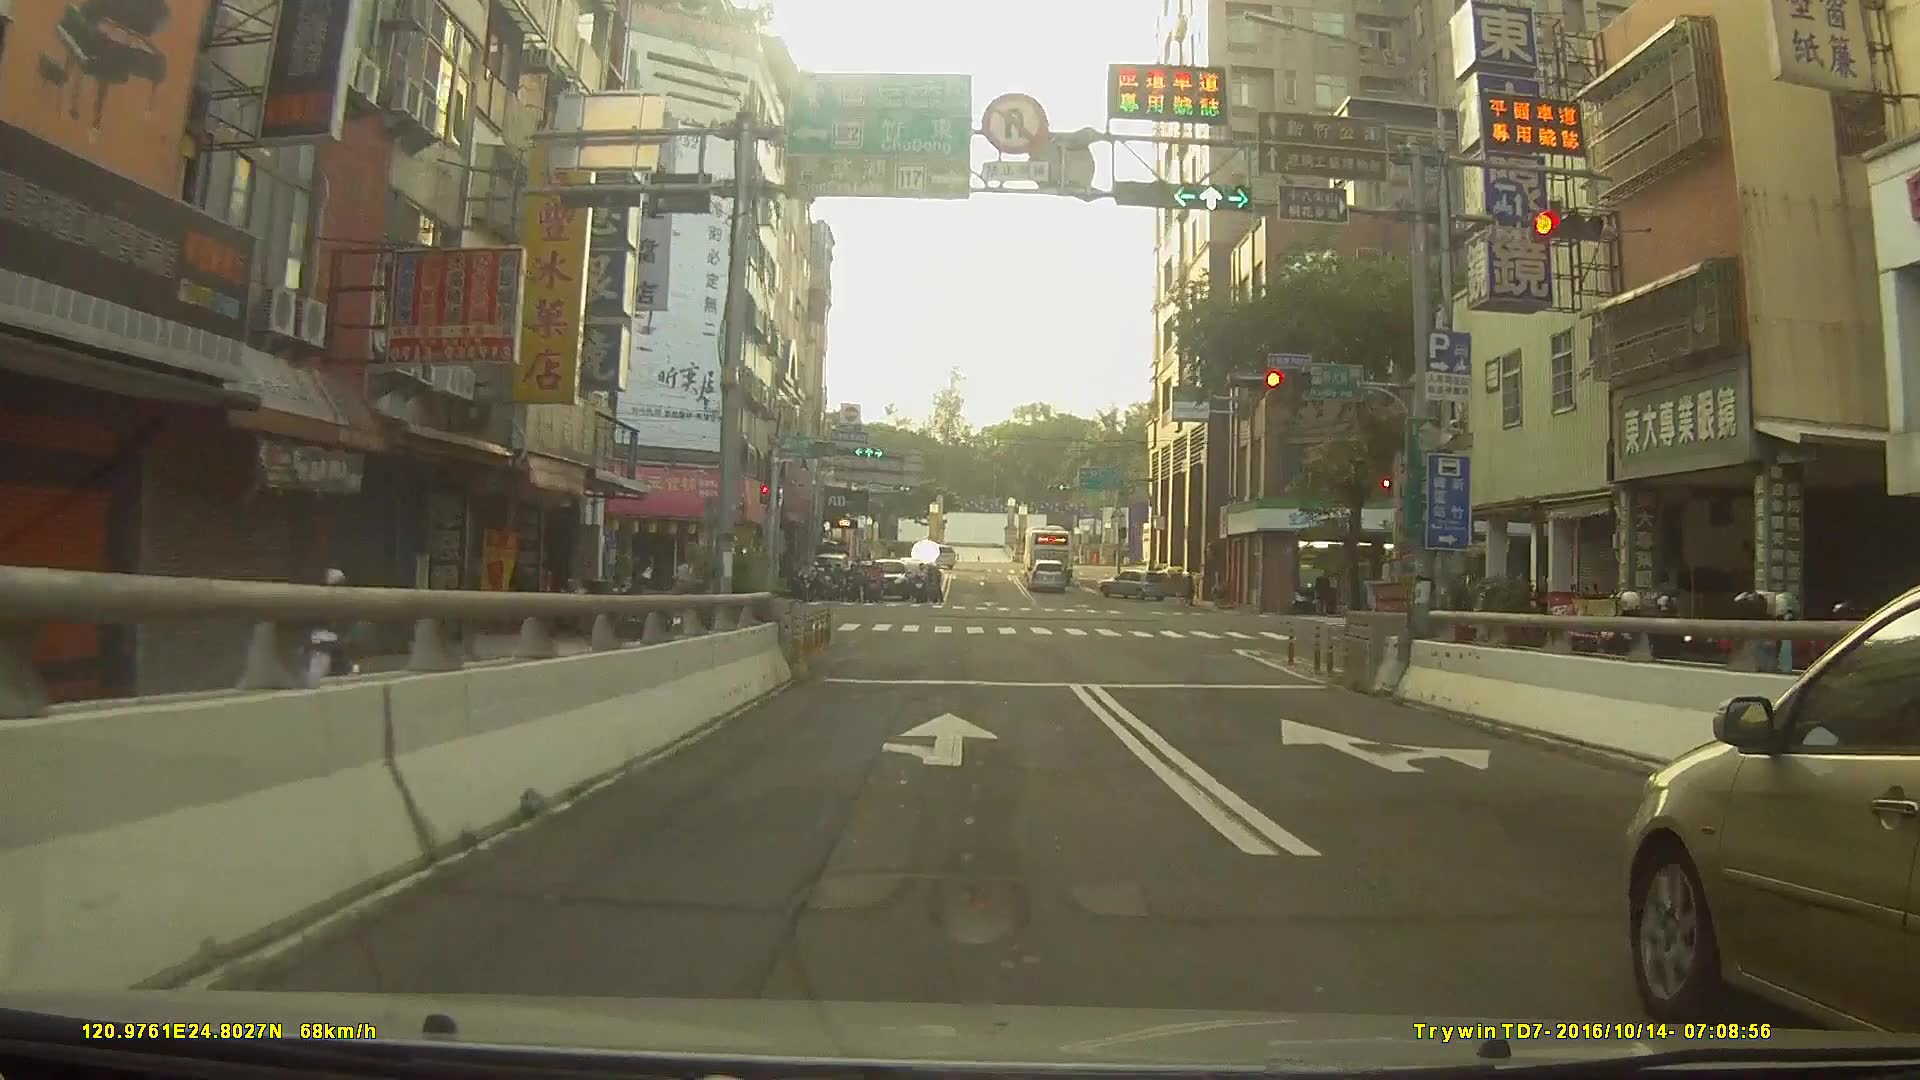pedestrian: (1313, 573, 1334, 617)
rider: (298, 569, 362, 719)
vehicle: (1625, 585, 1920, 1053), (1098, 567, 1173, 601), (1024, 525, 1075, 574), (864, 559, 909, 600), (1027, 557, 1067, 593), (908, 538, 954, 566)
